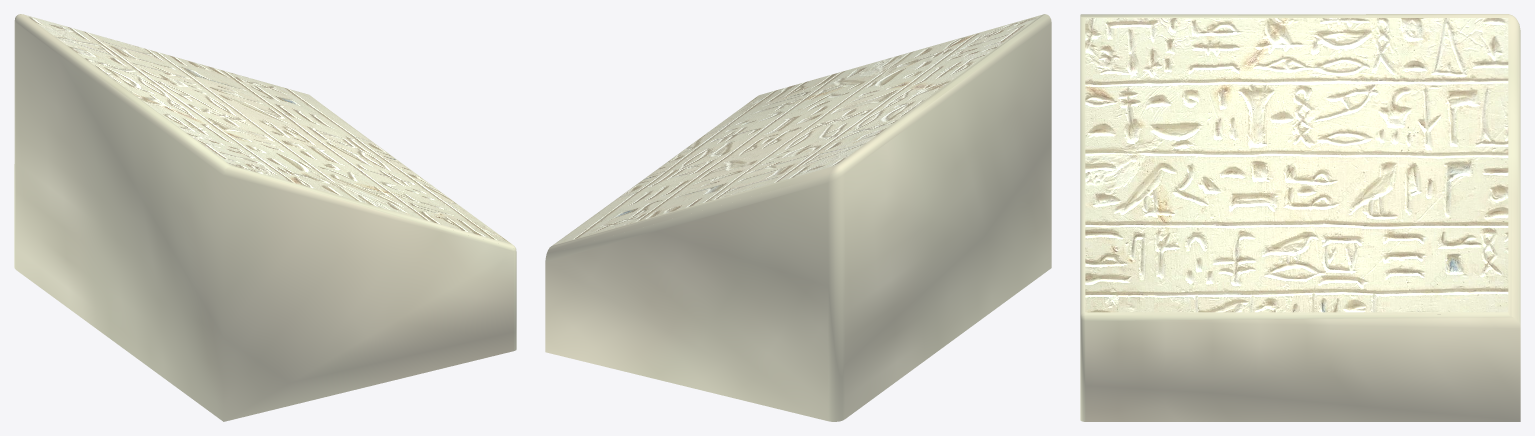
File: stoneTablet.glb
The picture shows the model from 3 angles, left to right: view 1: azimuth 30°, elevation 25°; view 2: azimuth 150°, elevation 25°; view 3: azimuth 270°, elevation 25°; orthographic projection. The views are drawn at different scales.
Visible parts, largest first — view 1: Cube; view 2: Cube; view 3: Cube.
Boxes of the visible parts, x1,y1,x2,y2 form: Cube: [14, 14, 516, 421]; Cube: [545, 14, 1051, 421]; Cube: [1080, 14, 1520, 421].
Bounding box in the file's own units: 1.59 × 1.31 × 2.
2 materials, 2 textured.
